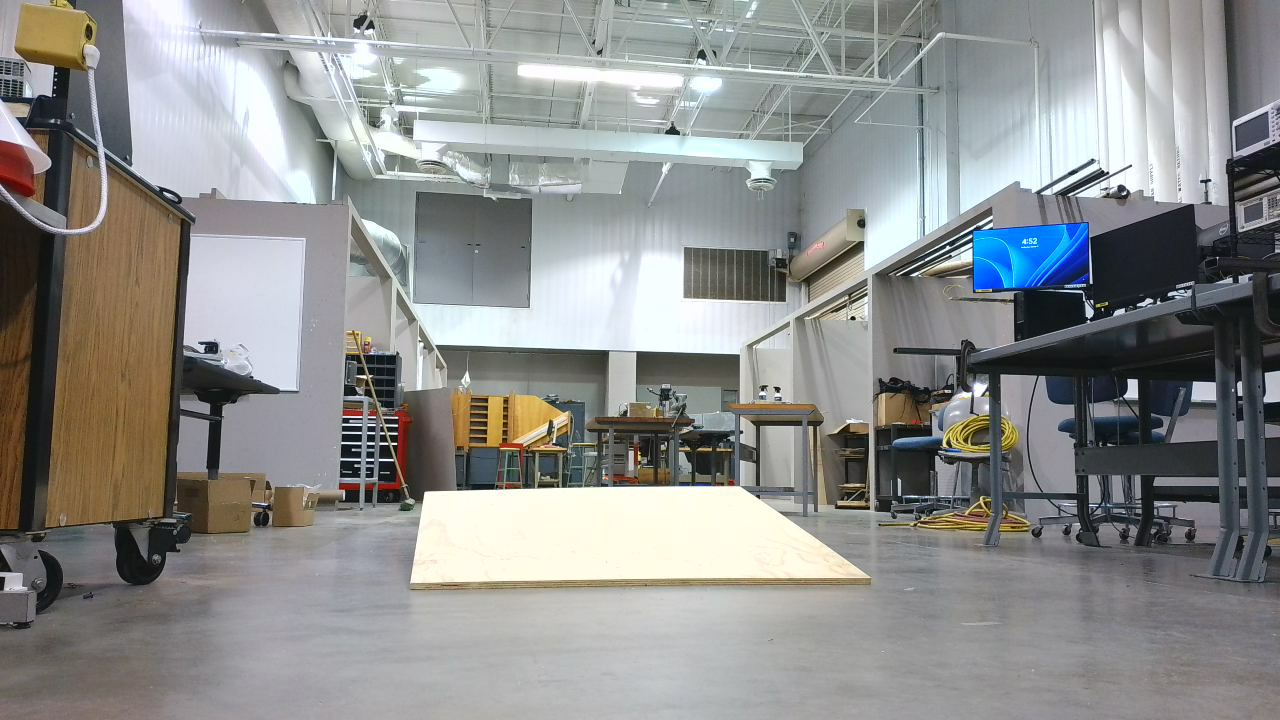ramp: (403, 486, 885, 602)
